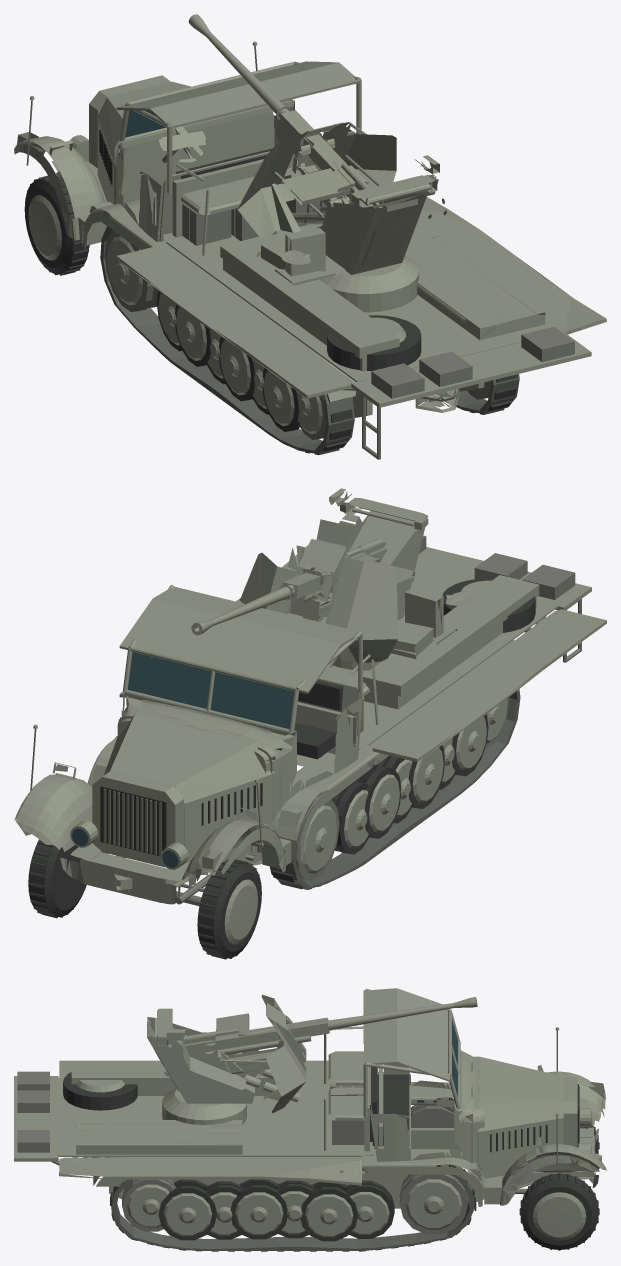
The model's file is germ_sdkfz_6_2_flak36.glb.
The picture shows the model from 3 angles, top to bottom: view 1: azimuth 30°, elevation 25°; view 2: azimuth 150°, elevation 25°; view 3: azimuth 270°, elevation 25°; orthographic projection. The views are drawn at different scales.
Parts seen in each view (by area): view 1: PlatformSideboardsStowageAndSpareWheel, HullArmour, TurretArmour, OpenCabSeatsCanvasAndWindshield, FendersHoodLouversRadiatorAndLights, MainGunAndMuzzleBrake, track_l, FrontPneumaticWheelsAxleAndSteering, wheel_l_drive, wheel_l_07, wheel_l_05, wheel_l_03 (+3 smaller); view 2: HullArmour, OpenCabSeatsCanvasAndWindshield, PlatformSideboardsStowageAndSpareWheel, FendersHoodLouversRadiatorAndLights, TurretArmour, FrontPneumaticWheelsAxleAndSteering, MainGunAndMuzzleBrake, track_l, wheel_l_drive, wheel_l_03, wheel_l_02, wheel_l_05 (+3 smaller); view 3: HullArmour, PlatformSideboardsStowageAndSpareWheel, OpenCabSeatsCanvasAndWindshield, TurretArmour, FendersHoodLouversRadiatorAndLights, MainGunAndMuzzleBrake, track_r, FrontPneumaticWheelsAxleAndSteering, wheel_r_drive, wheel_r_05, wheel_r_07, wheel_r_03 (+5 smaller).
Part boxes in pixels (x1,y1,x2,y2): PlatformSideboardsStowageAndSpareWheel: (116,197,606,459); HullArmour: (89,75,550,417); TurretArmour: (237,122,446,312); OpenCabSeatsCanvasAndWindshield: (116,61,366,255); FendersHoodLouversRadiatorAndLights: (14,41,459,412); MainGunAndMuzzleBrake: (188,14,386,211); track_l: (100,226,354,454); FrontPneumaticWheelsAxleAndSteering: (24,175,93,275); wheel_l_drive: (104,230,158,312); wheel_l_07: (262,368,299,431); wheel_l_05: (219,337,255,401); wheel_l_03: (175,305,211,366); HullArmour: (82,570,558,887); OpenCabSeatsCanvasAndWindshield: (119,585,378,860); PlatformSideboardsStowageAndSpareWheel: (119,535,606,762); FendersHoodLouversRadiatorAndLights: (14,640,514,904); TurretArmour: (240,488,474,670); FrontPneumaticWheelsAxleAndSteering: (28,839,261,959); MainGunAndMuzzleBrake: (191,538,415,635); track_l: (269,689,520,889); wheel_l_drive: (296,796,339,880); wheel_l_03: (355,764,401,838); wheel_l_02: (331,781,368,854); wheel_l_05: (406,745,444,808); HullArmour: (58,1050,593,1208); PlatformSideboardsStowageAndSpareWheel: (14,1060,364,1185); OpenCabSeatsCanvasAndWindshield: (324,988,460,1151); TurretArmour: (147,994,306,1124); FendersHoodLouversRadiatorAndLights: (72,1027,606,1206); MainGunAndMuzzleBrake: (182,997,477,1078); track_r: (110,1158,476,1251); FrontPneumaticWheelsAxleAndSteering: (515,1125,599,1250); wheel_r_drive: (399,1174,468,1234); wheel_r_05: (230,1179,287,1239); wheel_r_07: (158,1179,217,1240); wheel_r_03: (300,1182,357,1241).
Size of the model in its own units: 3.23 by 2.83 by 6.96.
